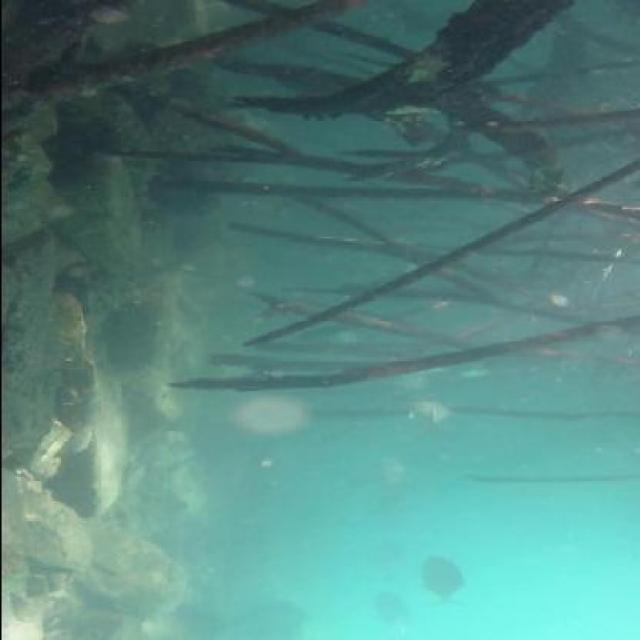Caranx_sexfasciatus_juvenile: (410, 556, 468, 615), (397, 393, 466, 429), (360, 592, 411, 630), (394, 362, 446, 384)
